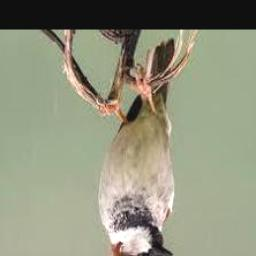Sparrow: (97, 39, 176, 256)
